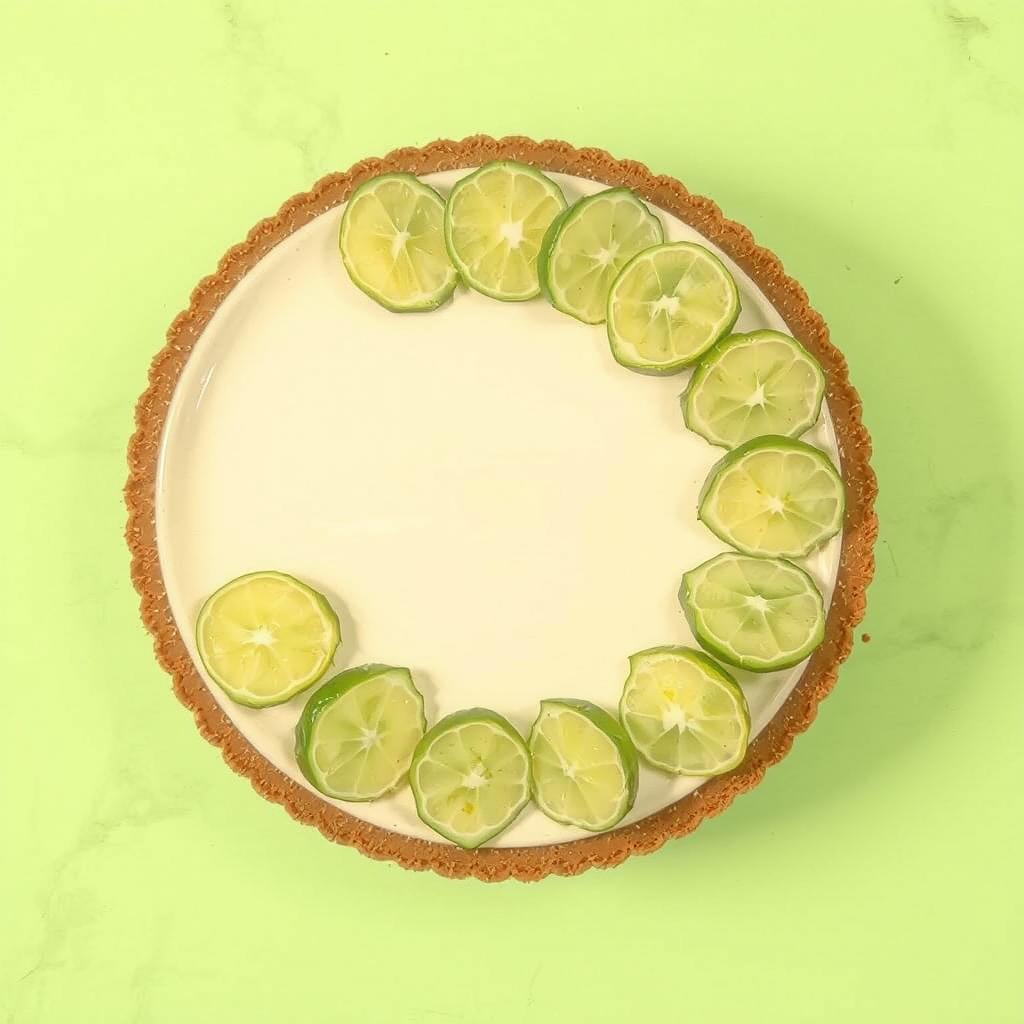pie: (119, 129, 884, 893)
